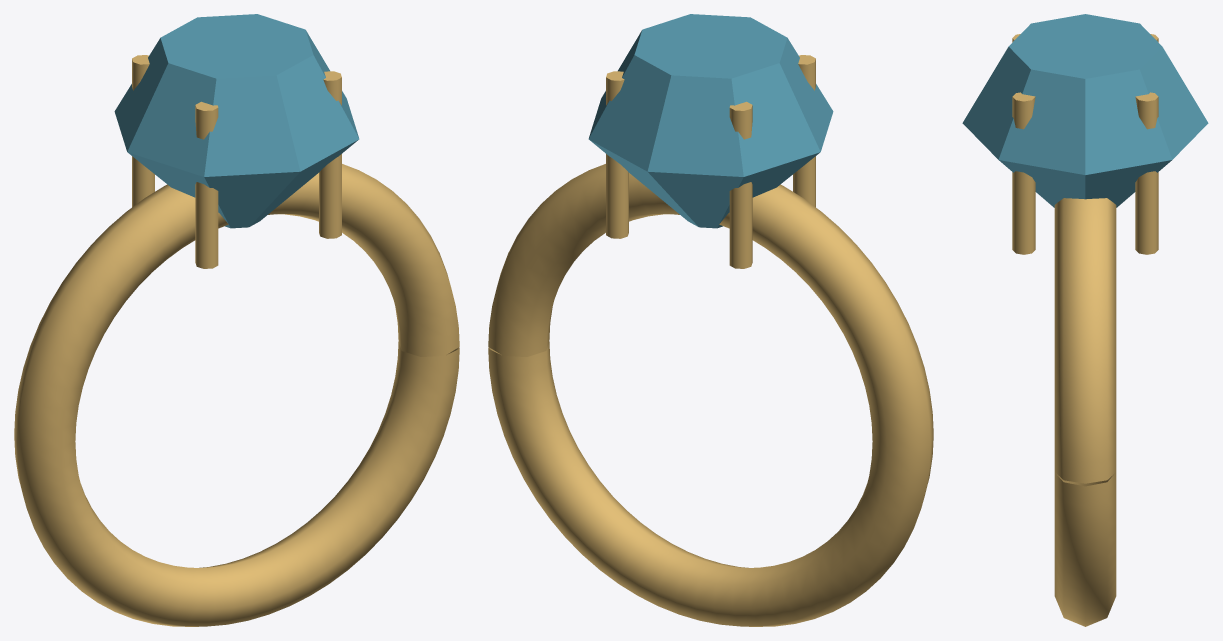
The model's file is loot_gem_ring.glb.
3 views of the same model, side by side, from view 1: azimuth 30°, elevation 25°; view 2: azimuth 150°, elevation 25°; view 3: azimuth 270°, elevation 25° (orthographic). The views are drawn at different scales.
Visible parts, largest first — view 1: loot_gem_ring; view 2: loot_gem_ring; view 3: loot_gem_ring.
Part boxes in pixels (x1,y1,x2,y2): loot_gem_ring: (14, 14, 459, 626); loot_gem_ring: (488, 14, 933, 626); loot_gem_ring: (962, 14, 1208, 626).
Size of the model in its own units: 0.064 by 0.08 by 0.032.
